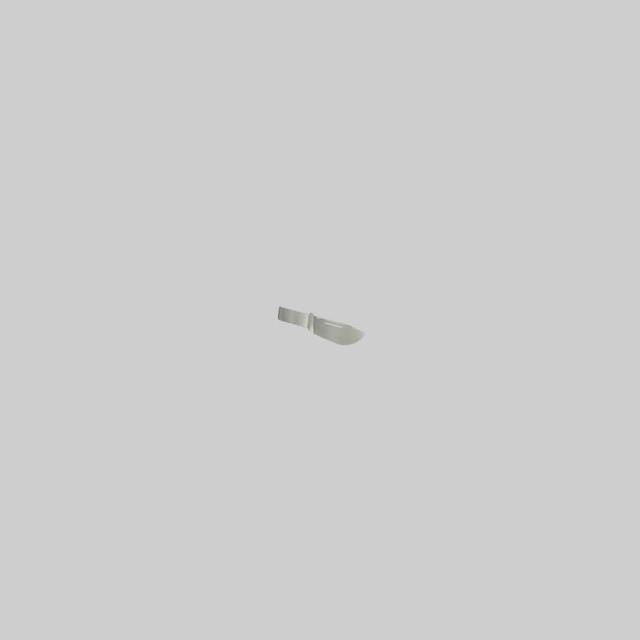knife: (278, 306, 313, 331)
